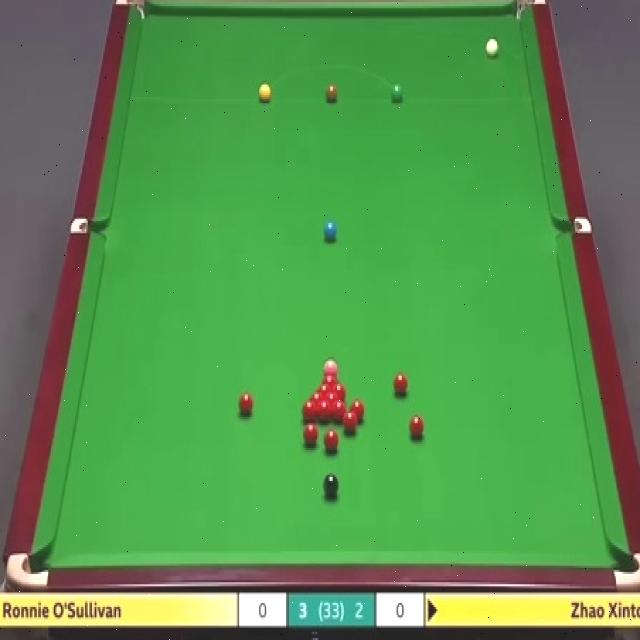black-ball: (323, 473, 340, 499)
blue-ball: (323, 221, 338, 241)
brown-ball: (325, 84, 338, 103)
green-ball: (390, 82, 404, 104)
pink-ball: (323, 357, 337, 370)
red-ball: (409, 413, 426, 442), (237, 392, 254, 418), (303, 422, 320, 447), (393, 372, 408, 398), (324, 428, 339, 452), (301, 399, 316, 422), (316, 398, 331, 421), (332, 400, 347, 423), (350, 399, 364, 423), (343, 412, 357, 434), (333, 382, 346, 398), (320, 371, 338, 381), (316, 382, 331, 392), (309, 392, 324, 401), (324, 391, 339, 400)
white-ball: (484, 34, 501, 61)
yellow-ball: (258, 83, 270, 103)
